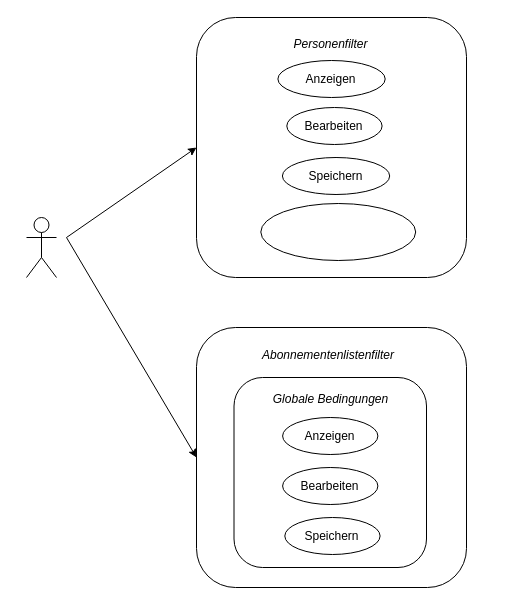
Some shapes in this 524 by 605 pixel diagram are drawn without their labels. Each missing label, with the centre of its shape:
"Benutzer" belongs at pixel 41 247.
"Gefilterte Personen anzeigen" belongs at pixel 338 231.
